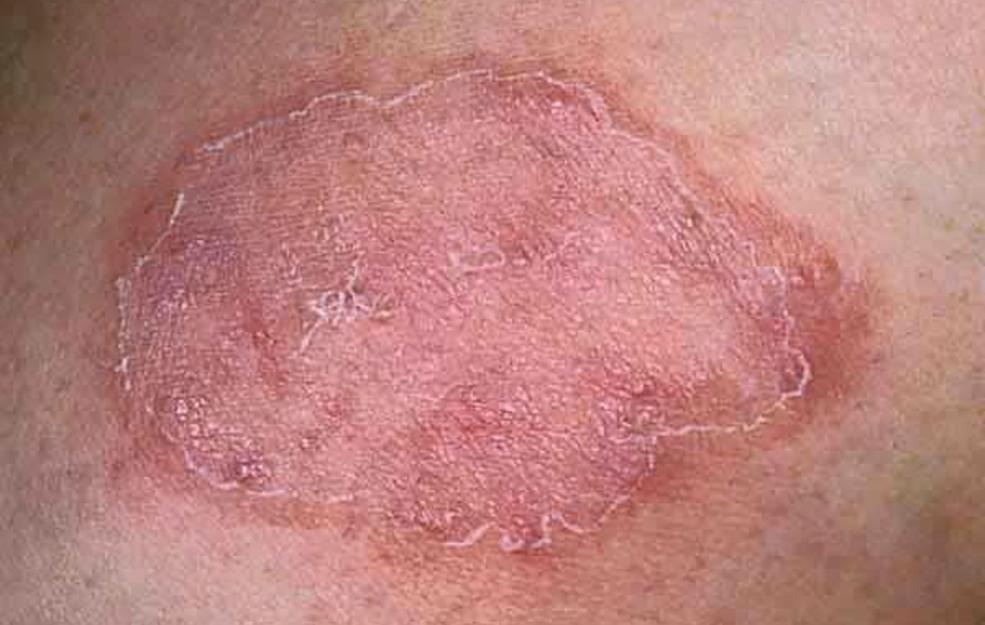Ringworm: (92, 18, 897, 600)
